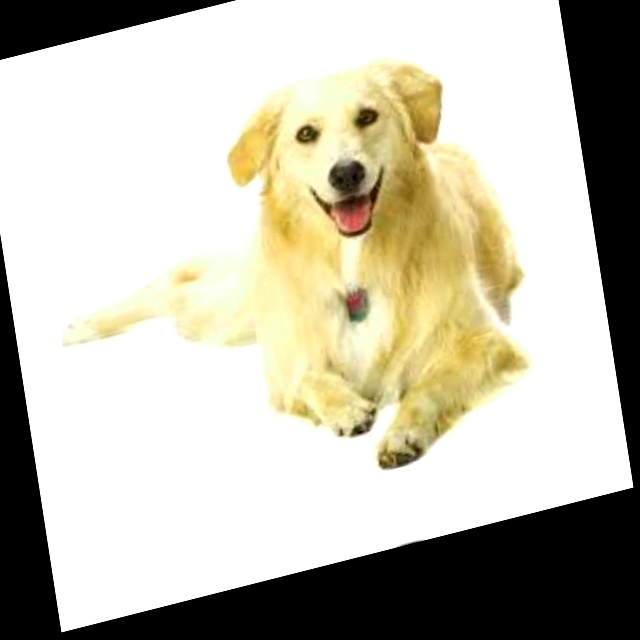dog: (195, 25, 477, 285)
